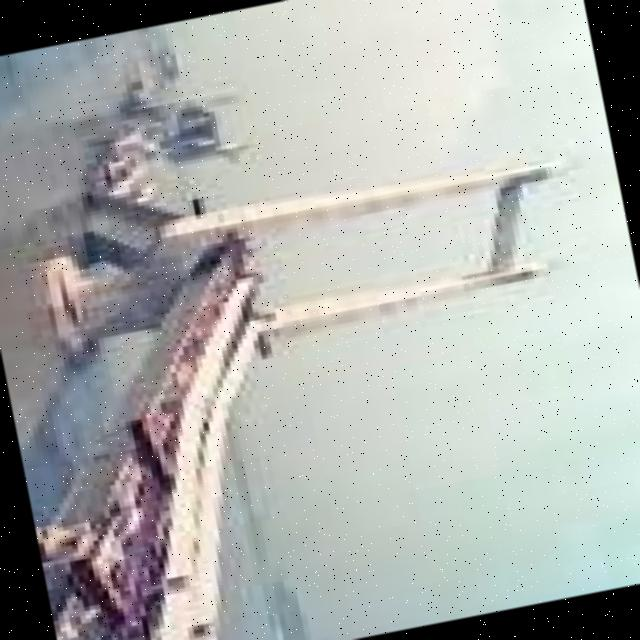bridge collapse: (0, 0, 494, 519)
